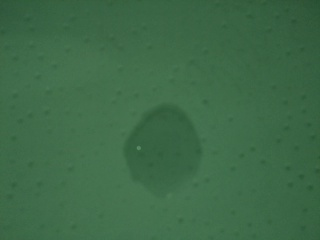Water_detected: (126, 110, 197, 194)
